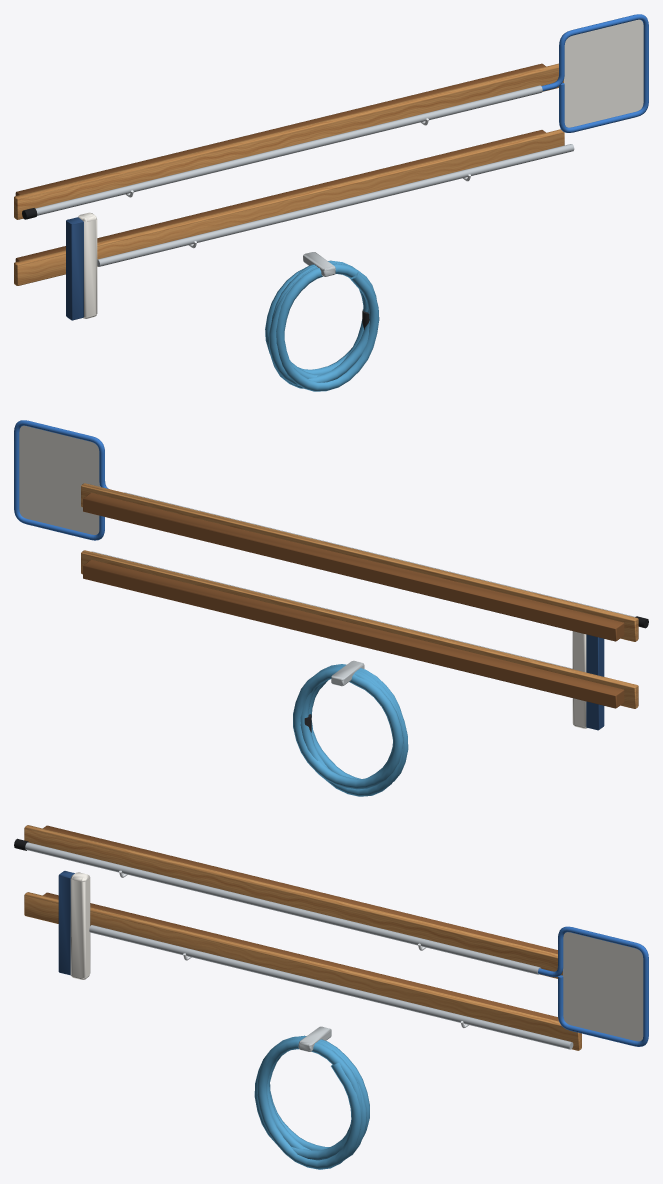
The model's file is skimmer_rack.glb.
3 renders of one model, top to bottom at view 1: azimuth 30°, elevation 25°; view 2: azimuth 150°, elevation 25°; view 3: azimuth 330°, elevation 25°, orthographic.
Parts seen in each view (by area): view 1: SkimmerRackMesh; view 2: SkimmerRackMesh; view 3: SkimmerRackMesh.
Boxes of the visible parts, box(x1,y1,x2,y2) form: SkimmerRackMesh: box(14, 14, 648, 391); SkimmerRackMesh: box(14, 420, 648, 796); SkimmerRackMesh: box(14, 825, 648, 1169).
Bounding box in the file's own units: 2.96 × 1.33 × 0.25.
Materials: 12 (3 with a texture image).
